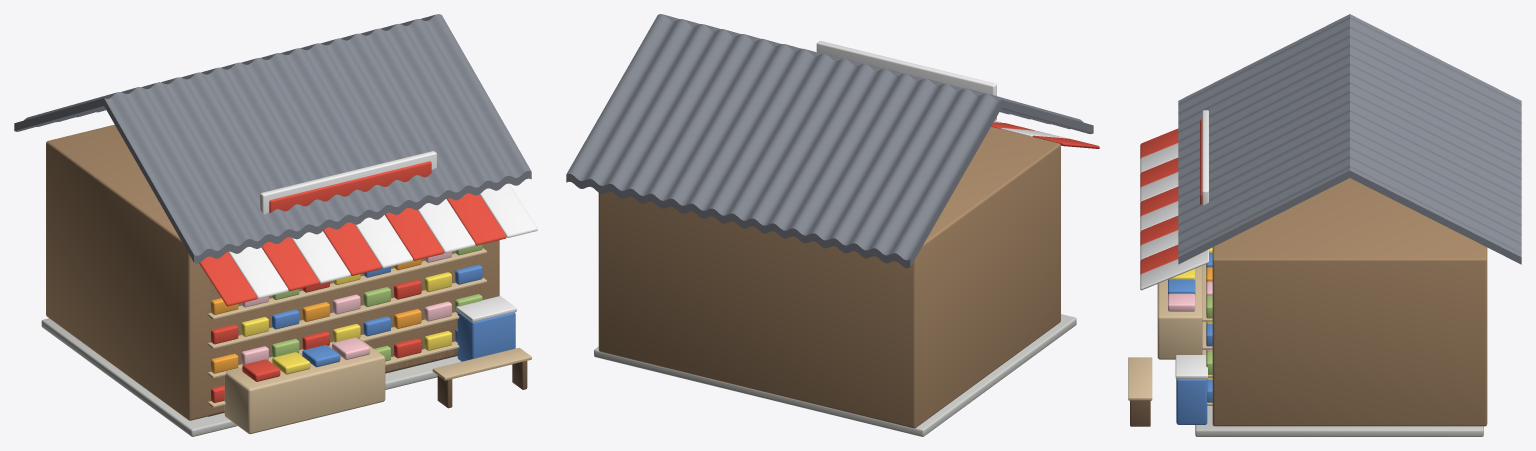
Rendered from dagashiya.glb.
3 views of the same model, side by side, from view 1: azimuth 30°, elevation 25°; view 2: azimuth 150°, elevation 25°; view 3: azimuth 270°, elevation 25° (orthographic). The views are drawn at different scales.
Parts seen in each view (by area): view 1: dagashiya; view 2: dagashiya; view 3: dagashiya.
Boxes of the visible parts, x1,y1,x2,y2 form: dagashiya: (14, 14, 537, 436); dagashiya: (566, 14, 1099, 436); dagashiya: (1128, 14, 1521, 436).
Size of the model in its own units: 5.42 by 4.37 by 5.73.
